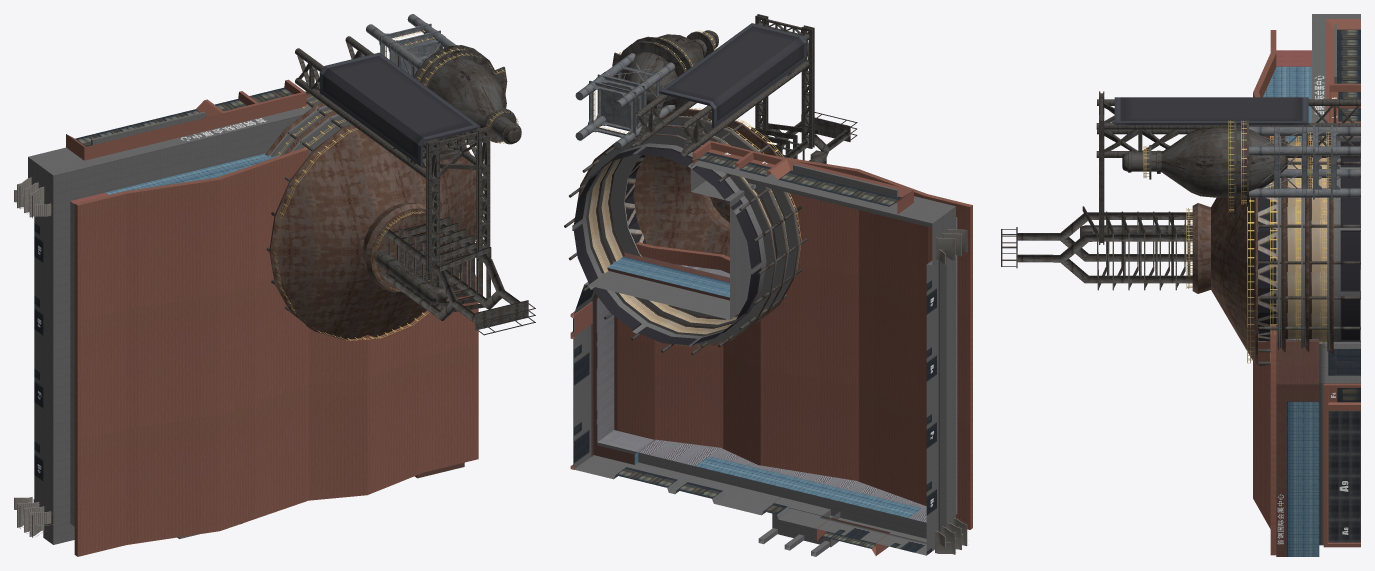
File: SG_HZZX_01.obj
The picture shows the model from 3 angles, left to right: view 1: azimuth 30°, elevation 25°; view 2: azimuth 150°, elevation 25°; view 3: azimuth 270°, elevation 25°; orthographic projection. The views are drawn at different scales.
Visible parts, largest first — view 1: Box002; view 2: Box002; view 3: Box002.
Part boxes in pixels (x1,y1,x2,y2): Box002: (14,14,535,556); Box002: (564,14,972,556); Box002: (1001,14,1360,556).
Size of the model in its own units: 154 by 156 by 116.
